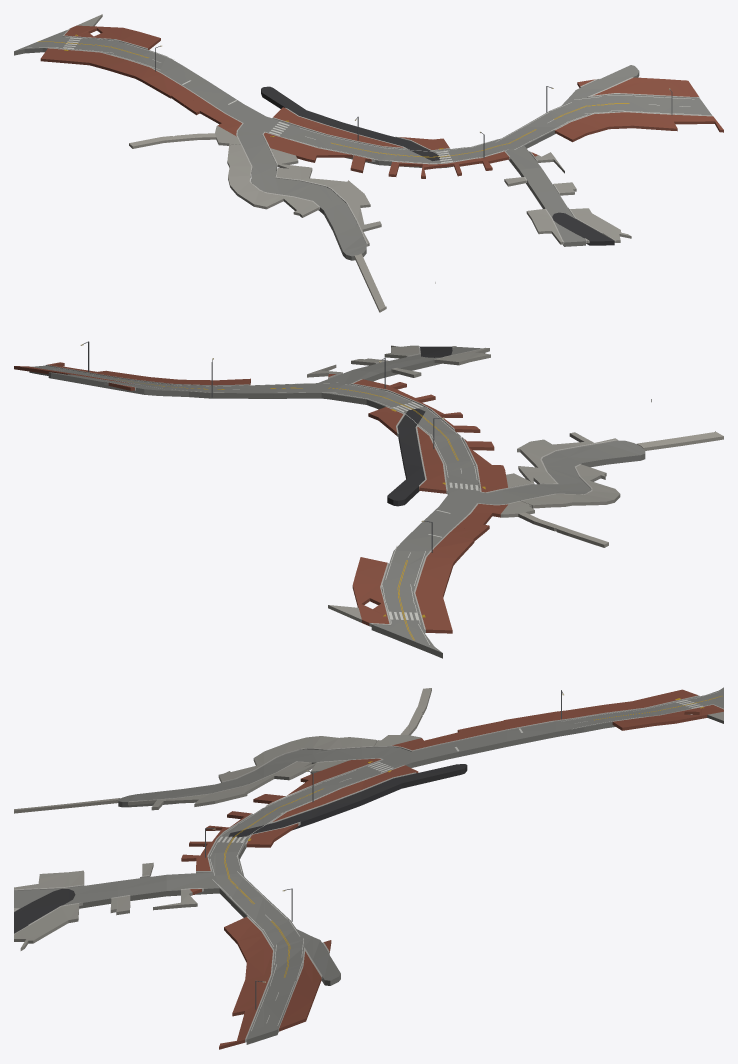
3 renders of one model, top to bottom at view 1: azimuth 30°, elevation 25°; view 2: azimuth 150°, elevation 25°; view 3: azimuth 270°, elevation 25°, orthographic. The views are drawn at different scales.
Bounding box in the file's own units: 147 × 27.76 × 146.
